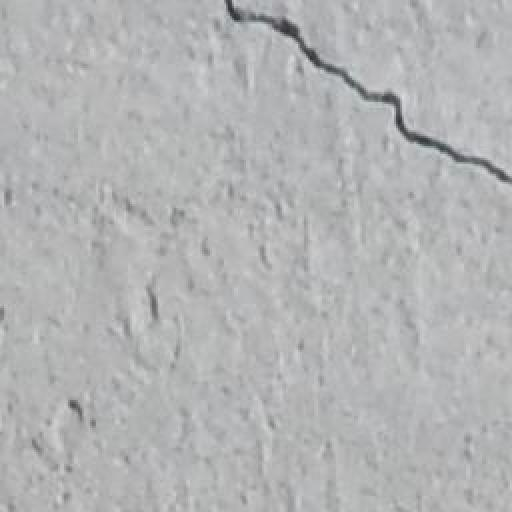spalling: (216, 4, 510, 199)
